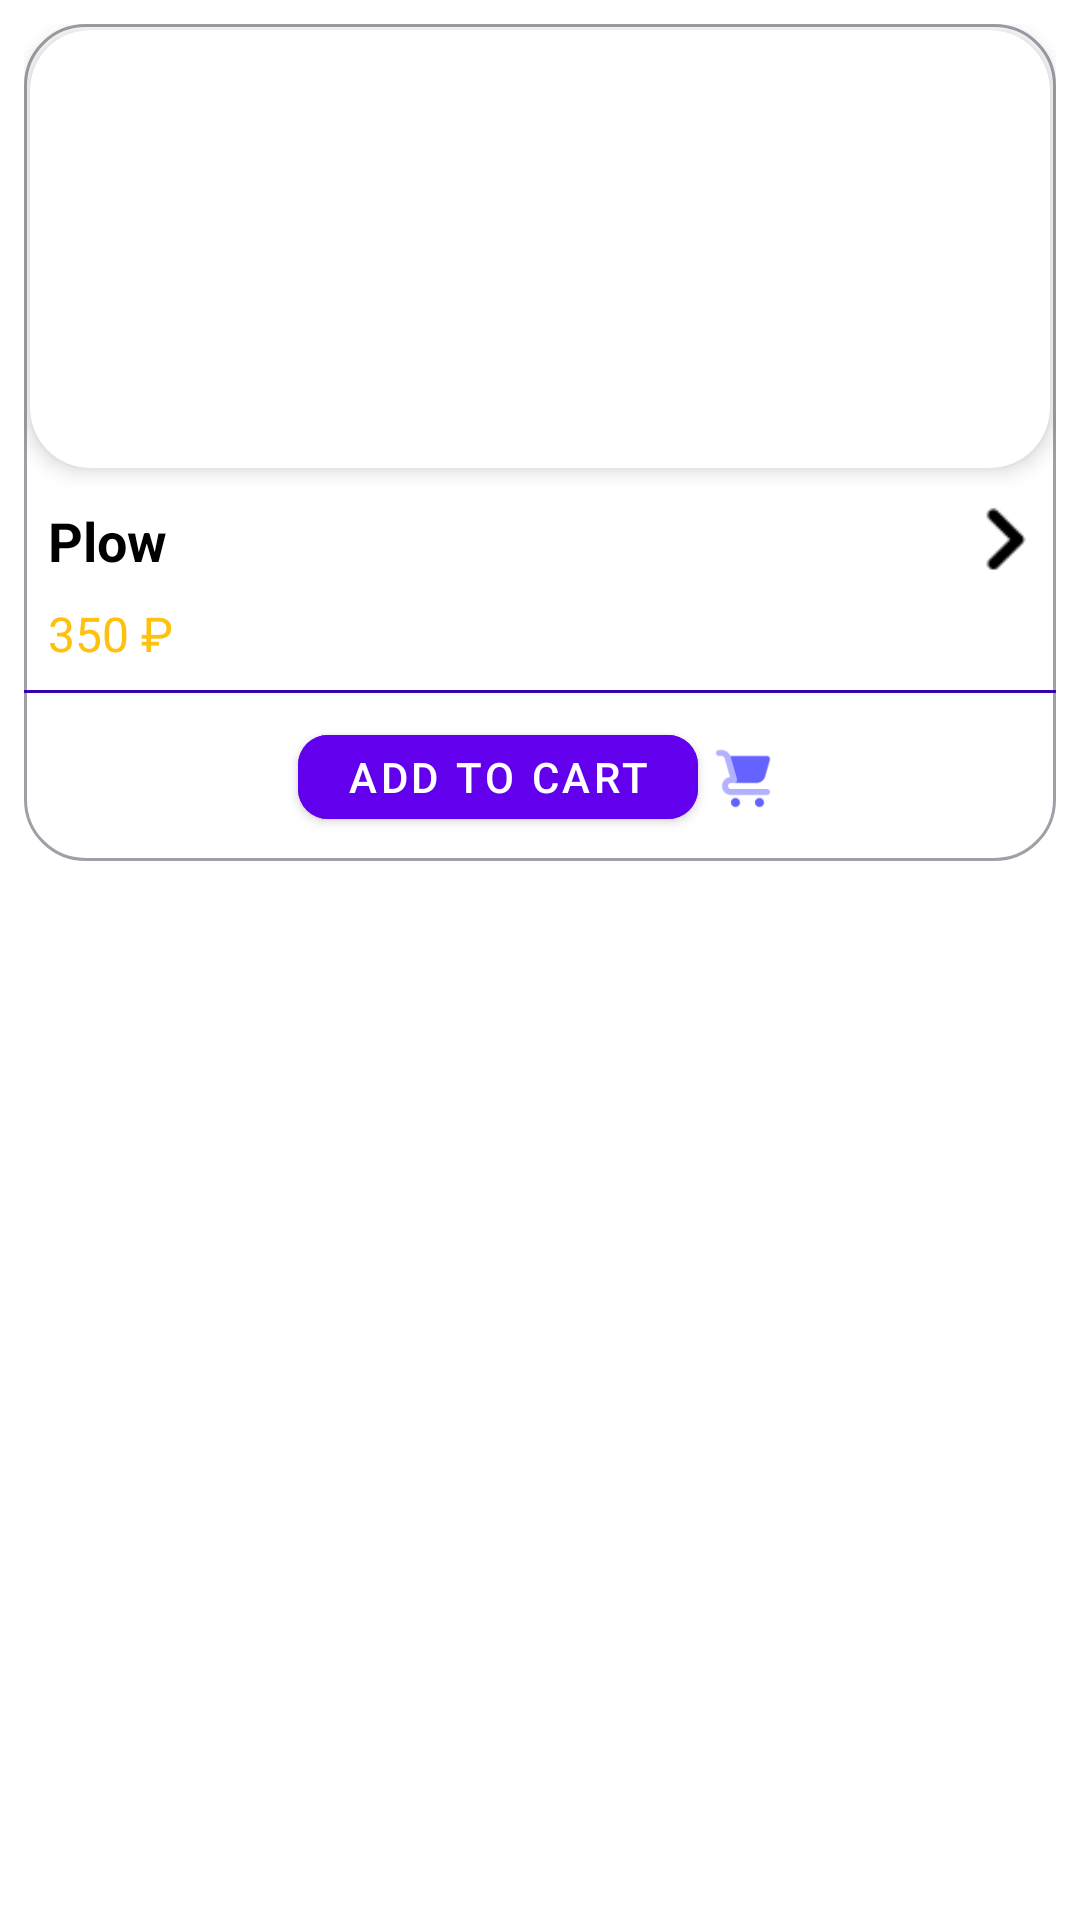

Point at icon controls on the screen. Image size 1080px x 1920px, points as (x=x, y=y).
backs right: (x=1006, y=539)
